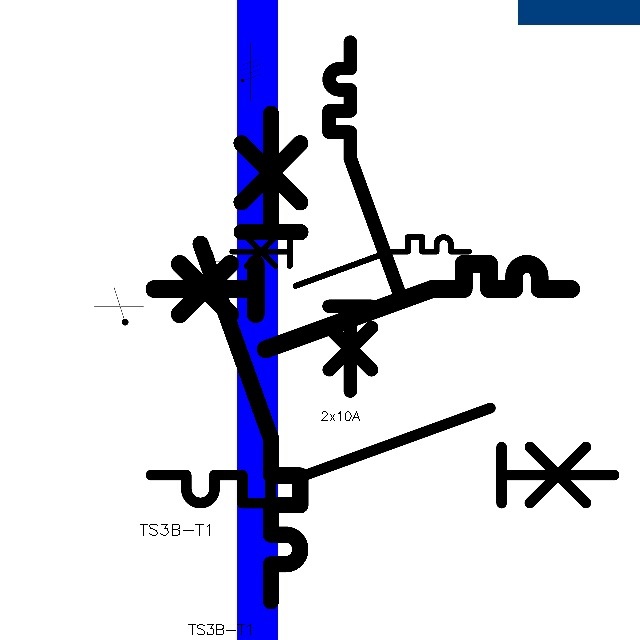interruptor_termomagnetico: (188, 101, 313, 614), (139, 396, 626, 515), (143, 253, 582, 360), (320, 33, 410, 400), (226, 231, 475, 292)
